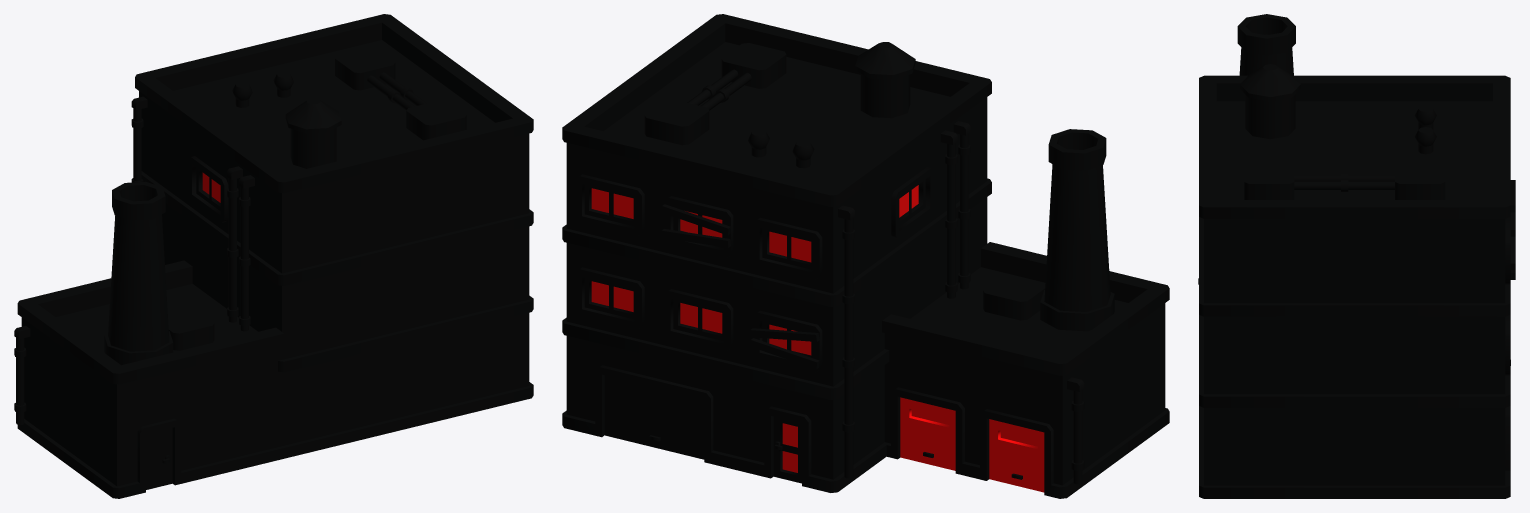
The model's file is building-b.glb.
3 views of the same model, side by side, from view 1: azimuth 30°, elevation 25°; view 2: azimuth 150°, elevation 25°; view 3: azimuth 270°, elevation 25° (orthographic). The views are drawn at different scales.
Visible parts, largest first — view 1: building-b; view 2: building-b; view 3: building-b.
Part boxes in pixels (box(x1,y1,x2,y2)): building-b: box(14, 14, 533, 498); building-b: box(562, 14, 1169, 498); building-b: box(1198, 14, 1515, 498).
Size of the model in its own units: 2.08 by 1.47 by 1.26.
1 material, 1 textured.
